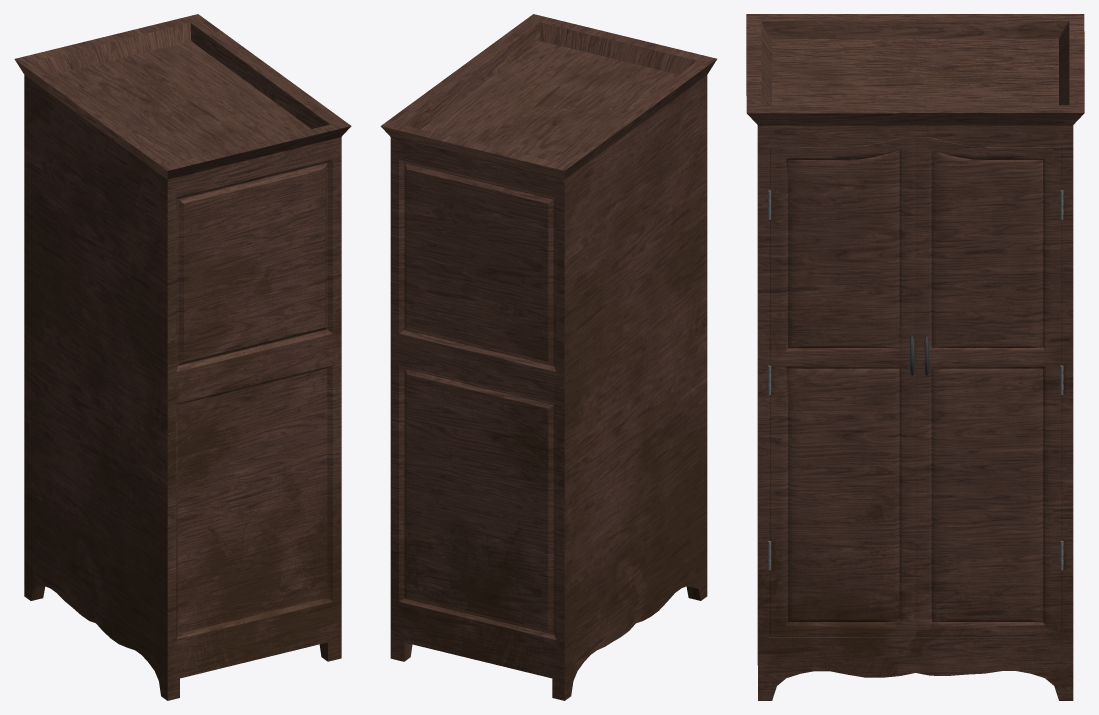
Rendered from cupboard.glb.
The picture shows the model from 3 angles, left to right: view 1: azimuth 30°, elevation 25°; view 2: azimuth 150°, elevation 25°; view 3: azimuth 270°, elevation 25°; orthographic projection. The views are drawn at different scales.
Visible parts, largest first — view 1: body; view 2: body; view 3: body.
Part boxes in pixels (x1,y1,x2,y2): body: (14, 14, 351, 700); body: (380, 14, 716, 700); body: (746, 14, 1084, 700).
Bounding box in the file's own units: 0.7641 × 2.06 × 1.07.
5 materials, 3 textured.
